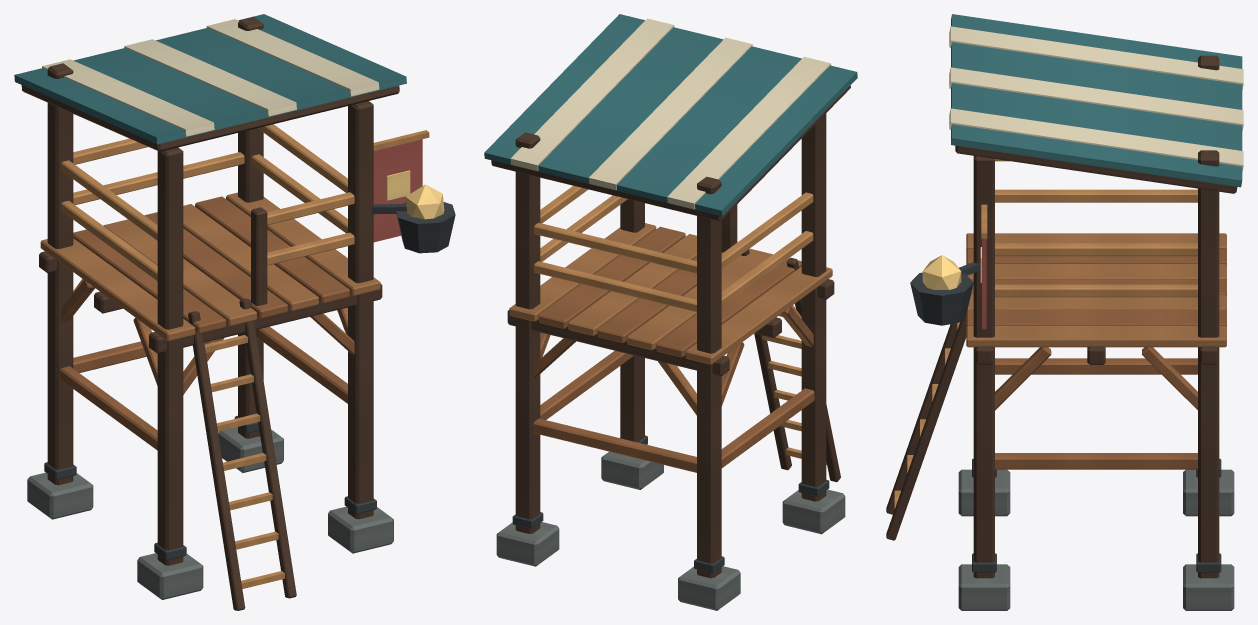
File: scout_watchtower.glb
The picture shows the model from 3 angles, left to right: view 1: azimuth 30°, elevation 25°; view 2: azimuth 150°, elevation 25°; view 3: azimuth 270°, elevation 25°; orthographic projection. The views are drawn at different scales.
Parts seen in each view (by area): view 1: scout_watchtower; view 2: scout_watchtower; view 3: scout_watchtower.
Part boxes in pixels (<box>): scout_watchtower: <box>14,14,455,610</box>; scout_watchtower: <box>484,14,857,610</box>; scout_watchtower: <box>886,14,1243,610</box>.
Size of the model in its own units: 2.26 by 3.49 by 2.36.
1 material, 1 textured.
